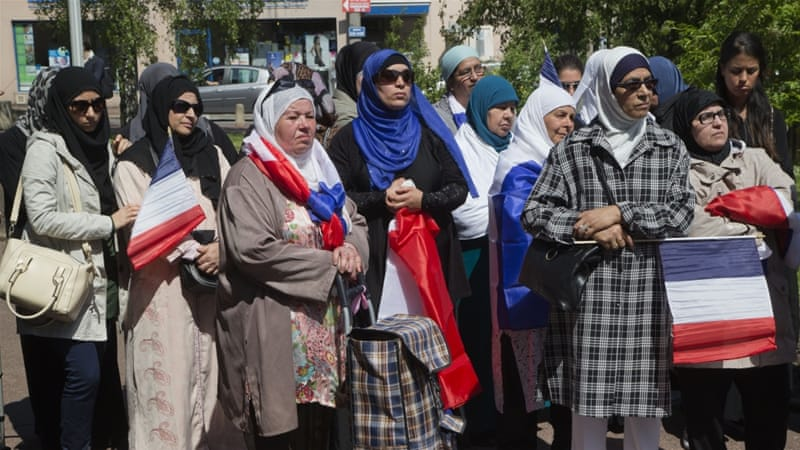without_mask: (281, 104, 316, 152), (168, 93, 202, 134), (622, 75, 654, 116), (72, 91, 106, 129), (380, 66, 410, 106), (698, 107, 728, 145), (494, 100, 515, 133)
